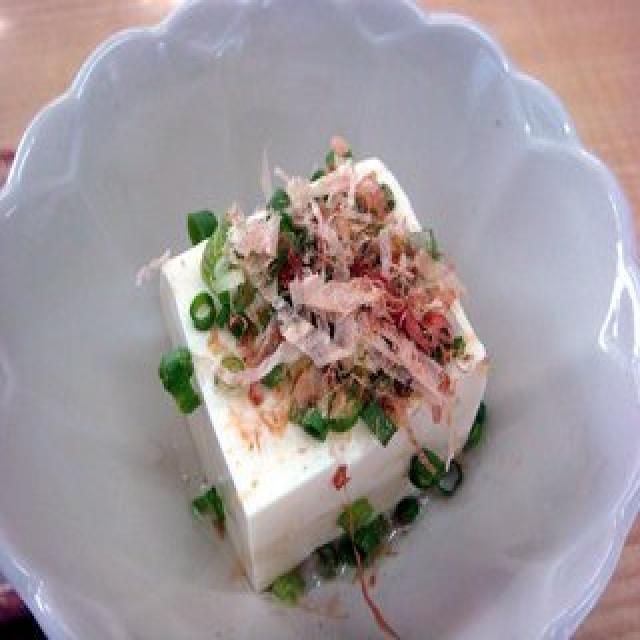豆腐料理: (156, 139, 488, 592)
